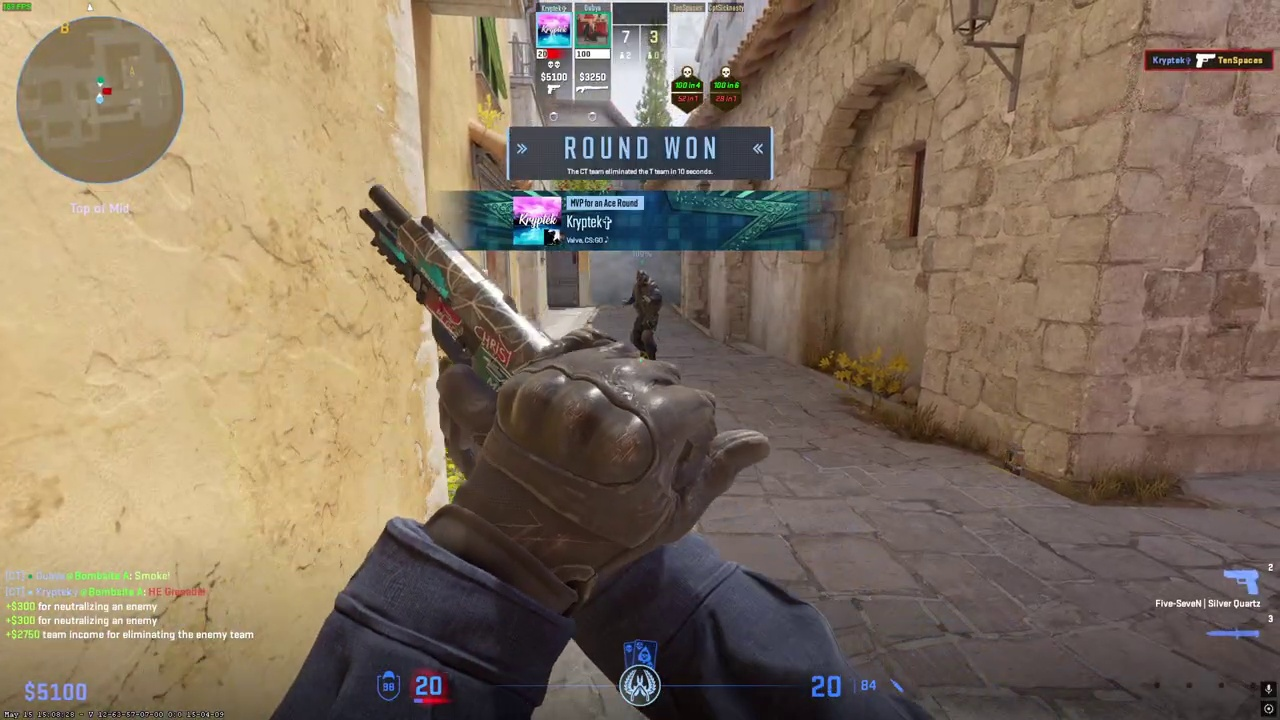CT: (630, 270, 661, 360)
